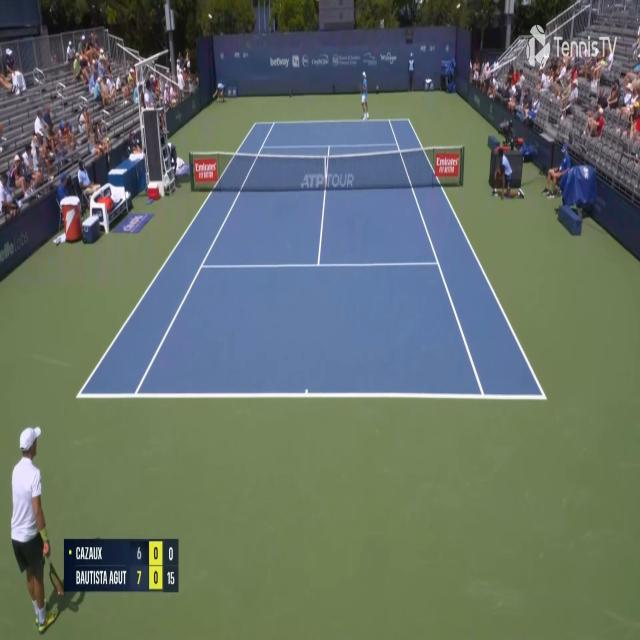tennis-player: (8, 418, 68, 638), (359, 69, 370, 122)
